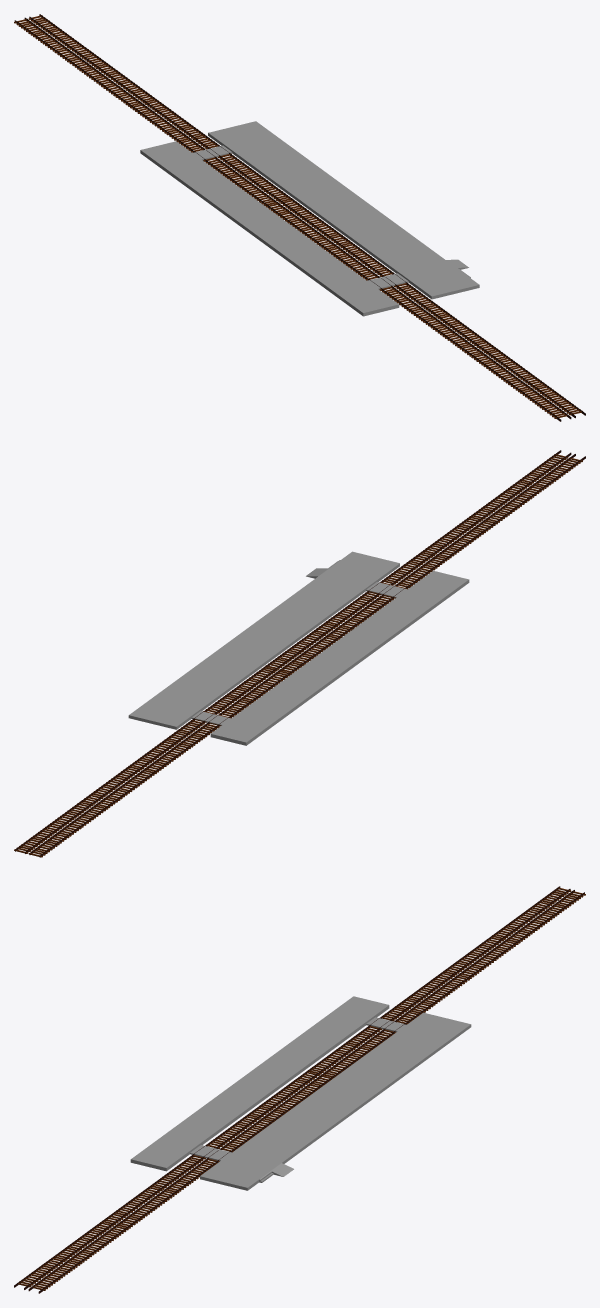
The model's file is Station.fbx.
3 renders of one model, top to bottom at view 1: azimuth 30°, elevation 25°; view 2: azimuth 150°, elevation 25°; view 3: azimuth 330°, elevation 25°, orthographic.
Visible parts, largest first — view 1: Cube; view 2: Cube; view 3: Cube.
Boxes of the visible parts, left/top/right/bottom form: Cube: left=14, top=14, right=585, bottom=421; Cube: left=14, top=450, right=585, bottom=857; Cube: left=14, top=886, right=585, bottom=1293.
Bounding box in the file's own units: 5.52 × 0.1459 × 40.34.
